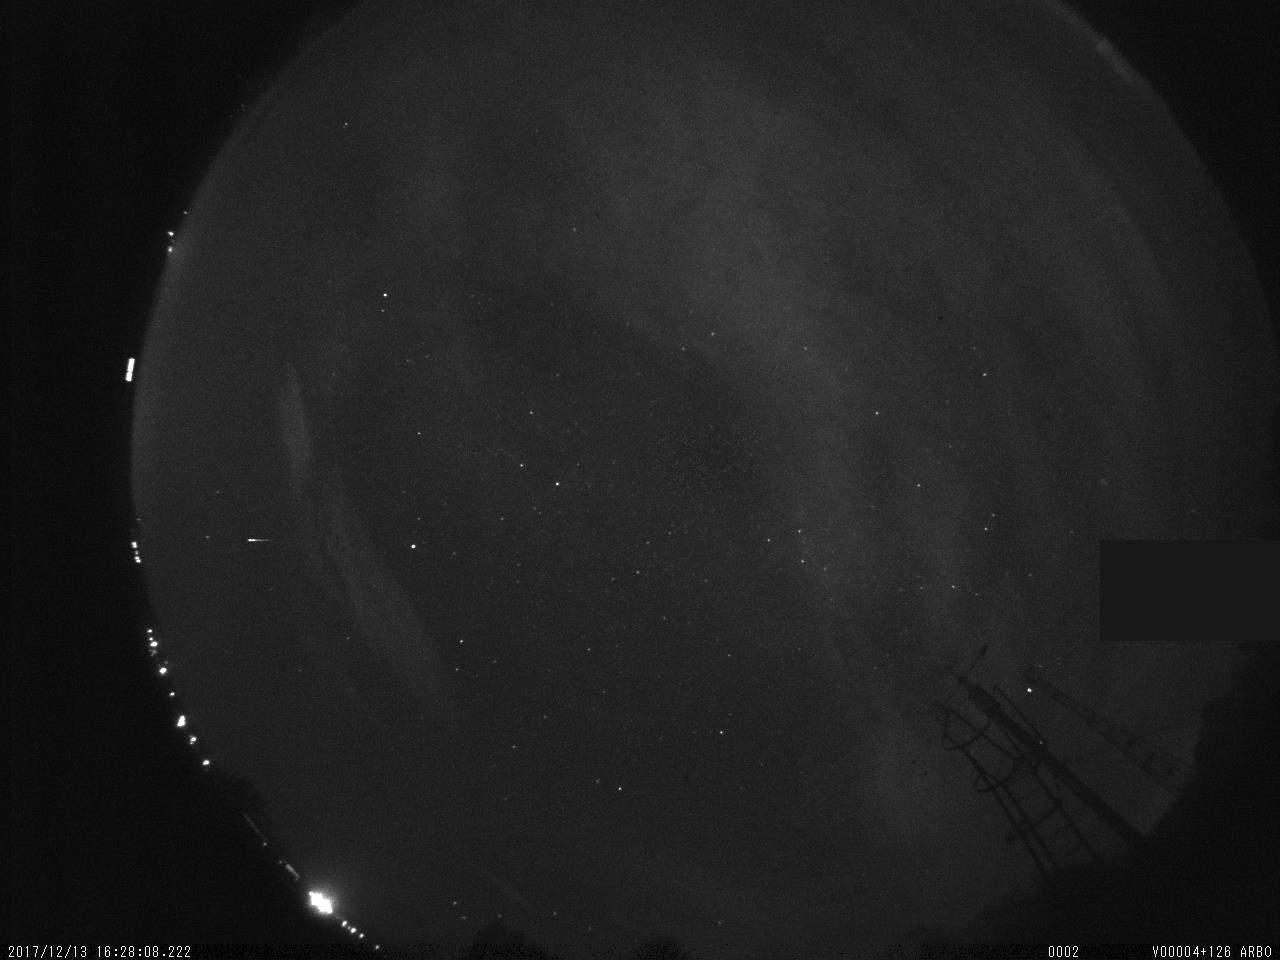meteor: (232, 529, 281, 557)
